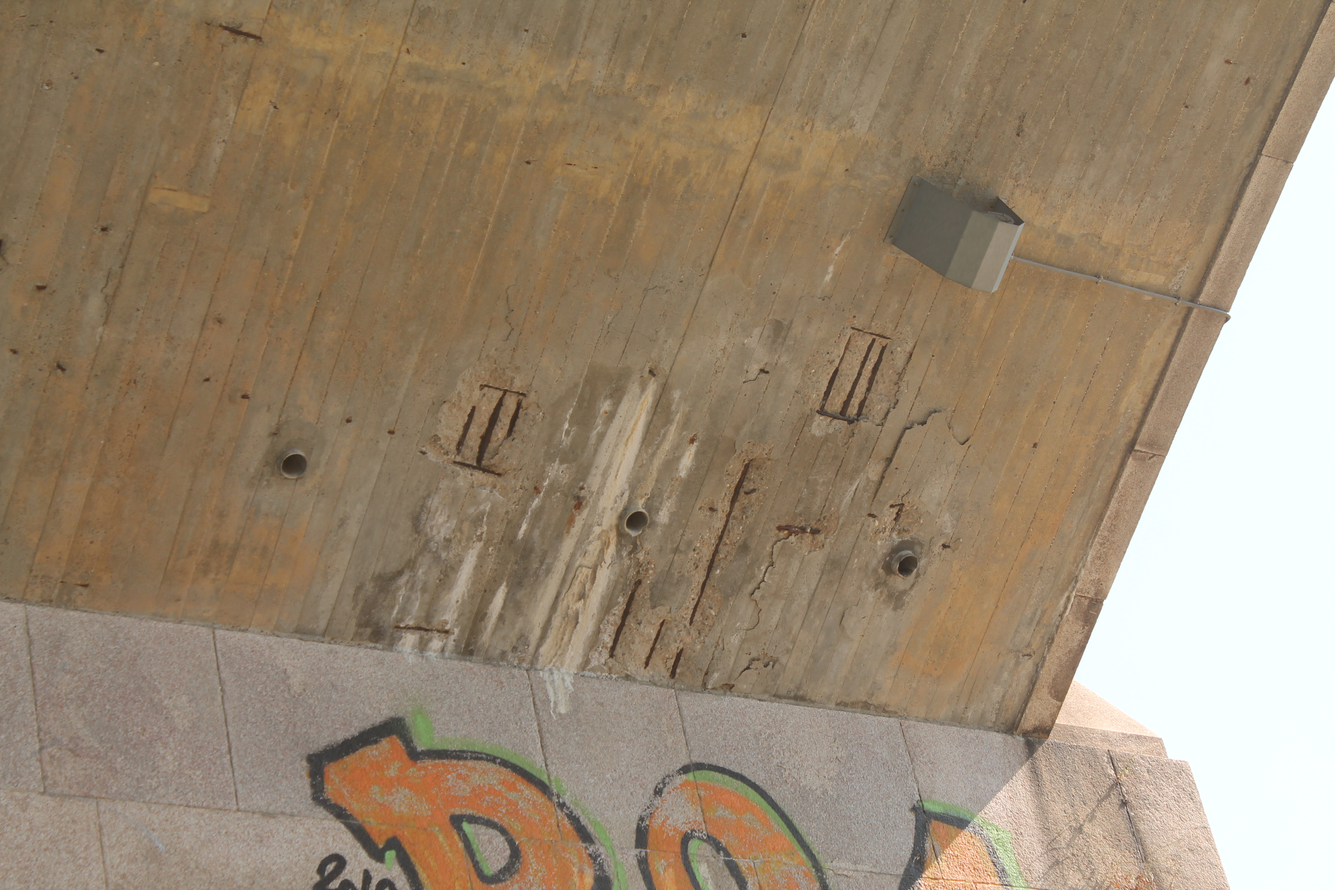Corrosion/Exposed rebar: (384, 318, 923, 694), (202, 11, 270, 60)
Crack: (856, 391, 974, 522), (740, 524, 803, 688), (476, 275, 531, 363)
Leaching: (368, 338, 762, 695)
Spalling: (373, 325, 931, 698), (193, 4, 286, 64)
